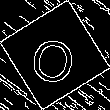O_N: (28, 25, 82, 85)
